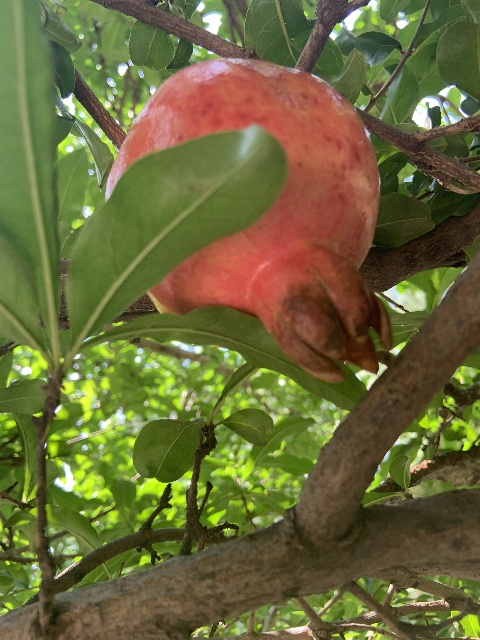ripe: (105, 58, 392, 382)
